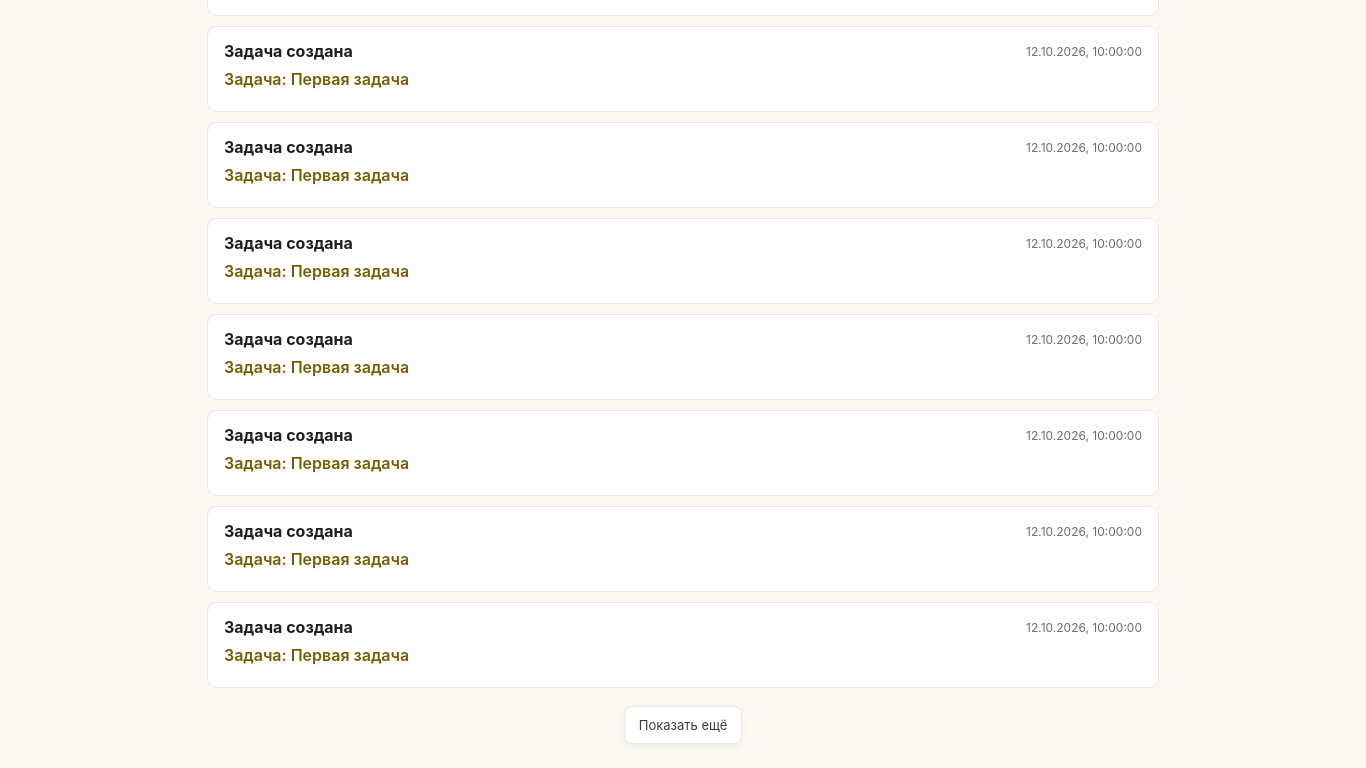
Test: global event feed › discards an all-events page that finishes after switching to warnings
(page scrolled)
Step 1. Click the button "Показать ещё" → (683, 725), box [624,706,742,744]
(page scrolled)
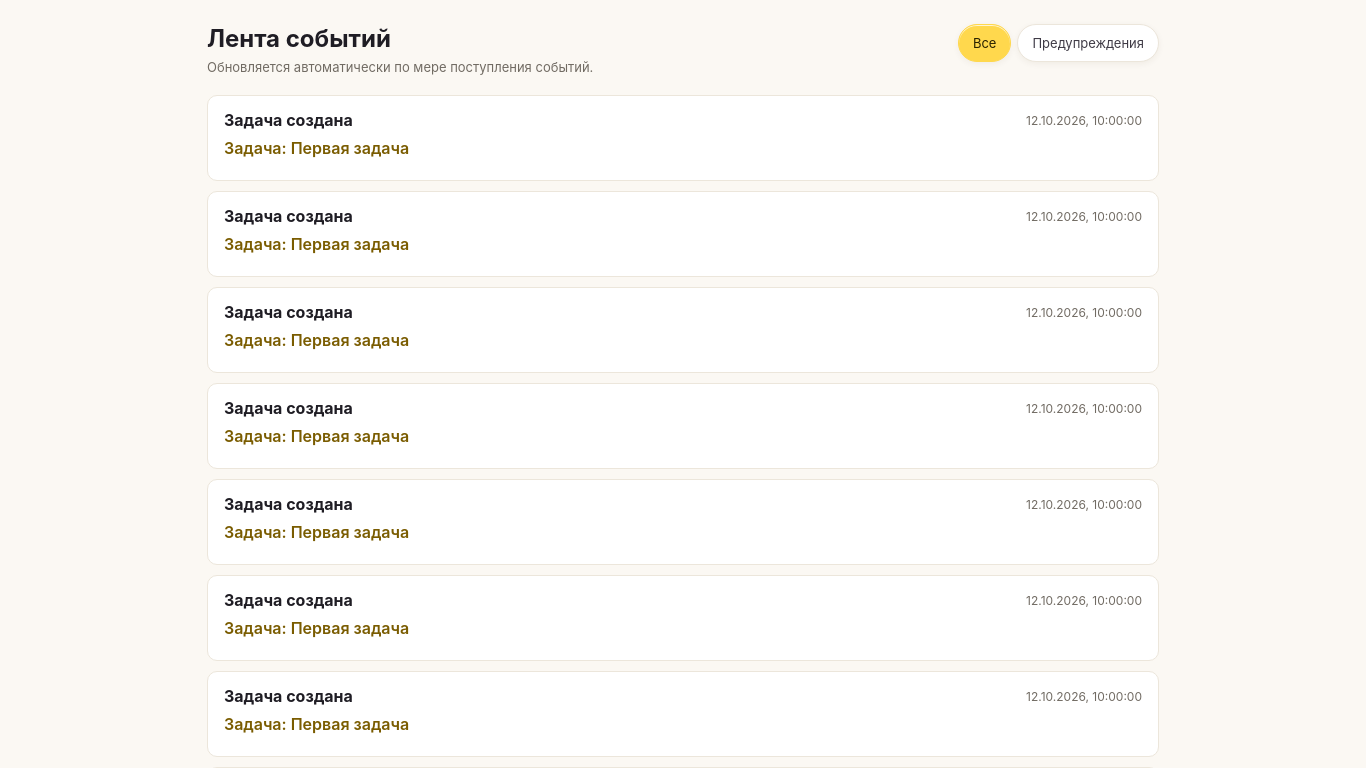
Step 2. Click the button "Предупреждения" → (1088, 43), box [1017,24,1159,62]
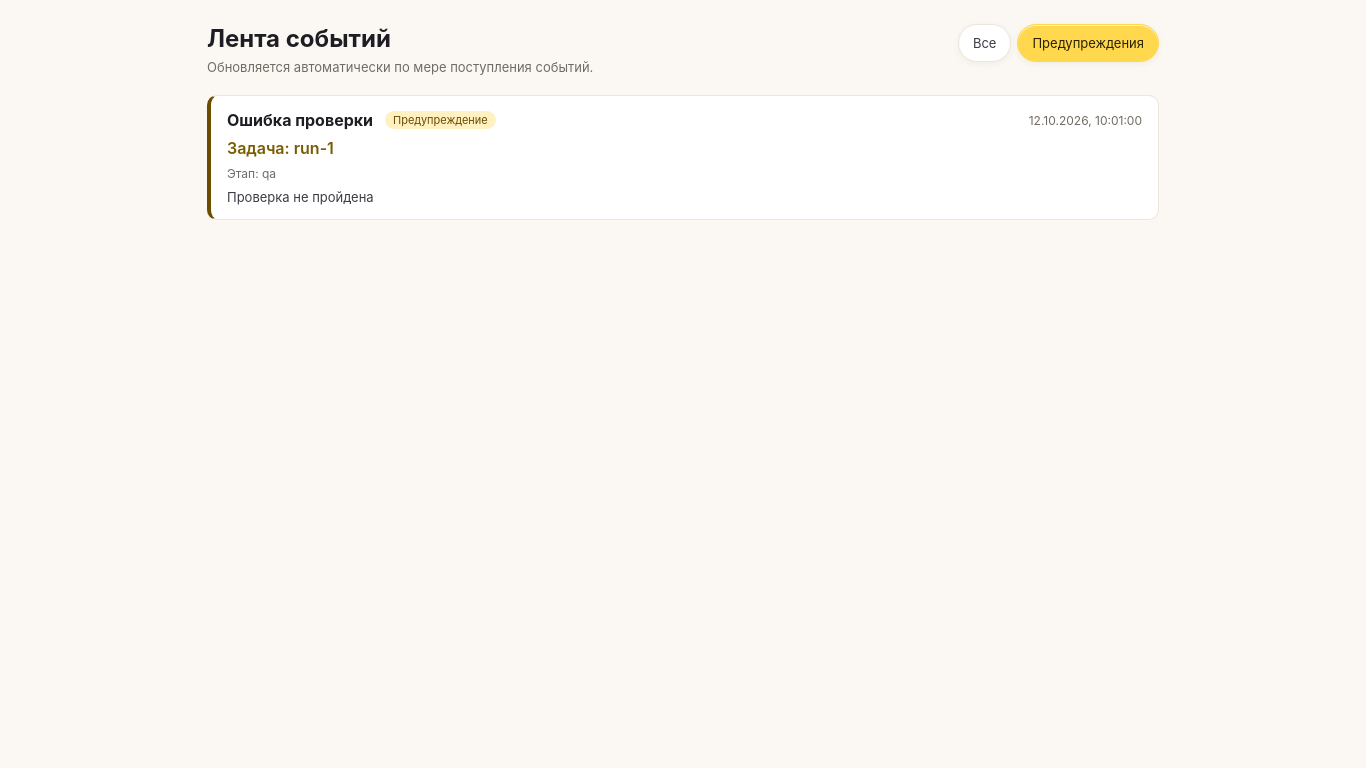
Expected: the text "Задача создана" is gone
Expected: the text "Ошибка проверки" is shown, [227,110,373,130]
